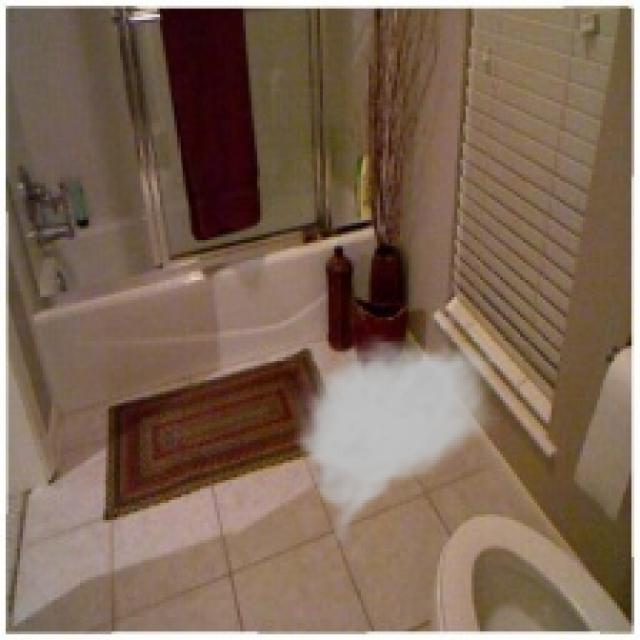smoke: (288, 334, 503, 549)
